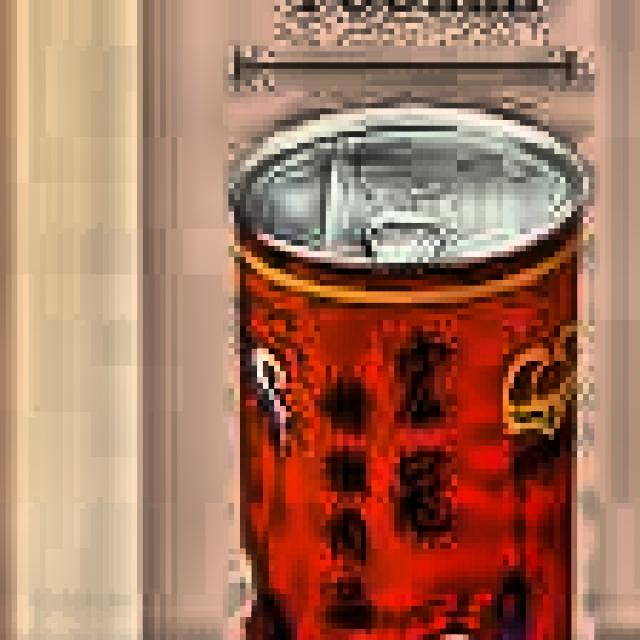metal: (211, 85, 605, 640)
